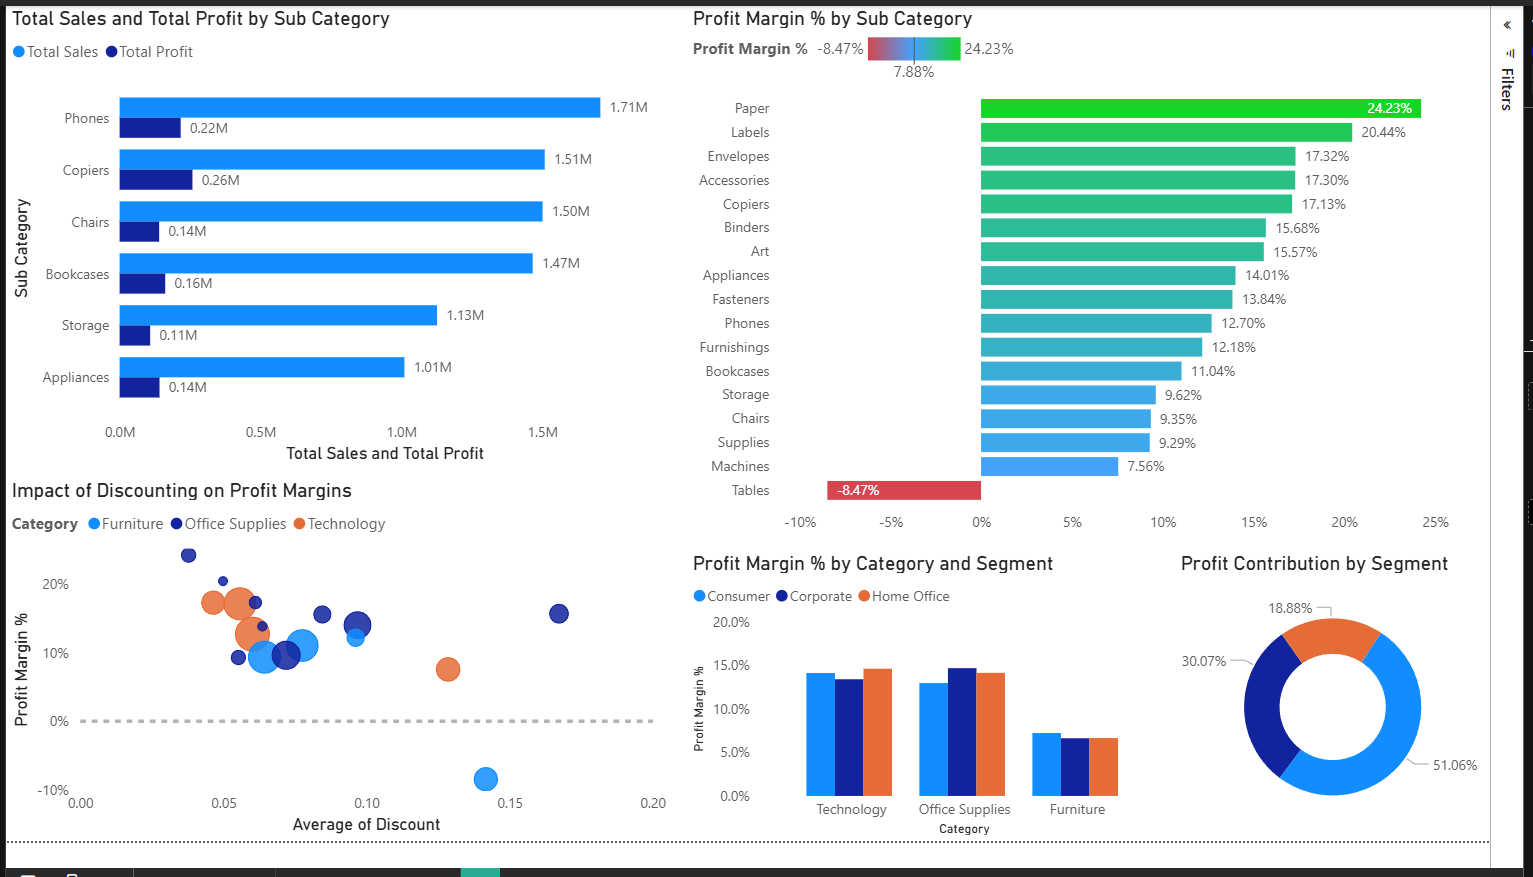

What the dashboard file says about the page in this screenshot:
{"tool":"powerbi","page":{"name":"Profit & Margin Deep Dive","canvas":[1280,720],"ordinal":1},"visuals":[{"type":"clusteredColumnChart","fields":{"Category":["superstore.Category"],"Series":["superstore.Segment"],"Y":["superstore.Profit Margin %"]},"box":[587.6,469.7,419.8,250.3],"z":0},{"type":"clusteredBarChart","fields":{"Category":["superstore.Sub Category"],"Y":["superstore.Profit Margin %"]},"box":[587.6,0,692.8,463.4],"z":2000},{"type":"scatterChart","title":"Impact of Discounting on Profit Margins","fields":{"X":["Avg(superstore.Discount)"],"Y":["superstore.Profit Margin %"],"Category":["superstore.Sub Category"],"Size":["superstore.Total Sales"],"Series":["superstore.Category"]},"box":[0,407.5,574.8,312.2],"z":3001},{"type":"clusteredBarChart","fields":{"Category":["superstore.Sub Category"],"Y":["superstore.Total Sales","superstore.Total Profit"]},"box":[0,0,574.9,399],"z":3003},{"type":"donutChart","title":"Profit Contribution by Segment","fields":{"Category":["superstore.Segment"],"Y":["superstore.Total Profit"]},"box":[1008,470,272,250],"z":3004}]}

Visuals, with their boxes on the page's 1280x720 design canvas (x1, y1, x2, y2). These are canvas units, not pixel positions in the 1533x877 screenshot, which may show the page scaled, cropped or inside an application window:
clusteredColumnChart - superstore.Category x superstore.Segment: BBox(588, 470, 1007, 720)
clusteredBarChart - superstore.Sub Category x superstore.Profit Margin %: BBox(588, 0, 1280, 463)
"Impact of Discounting on Profit Margins" scatterChart: BBox(0, 408, 575, 720)
clusteredBarChart - superstore.Sub Category x superstore.Total Sales: BBox(0, 0, 575, 399)
"Profit Contribution by Segment" donutChart: BBox(1008, 470, 1280, 720)
